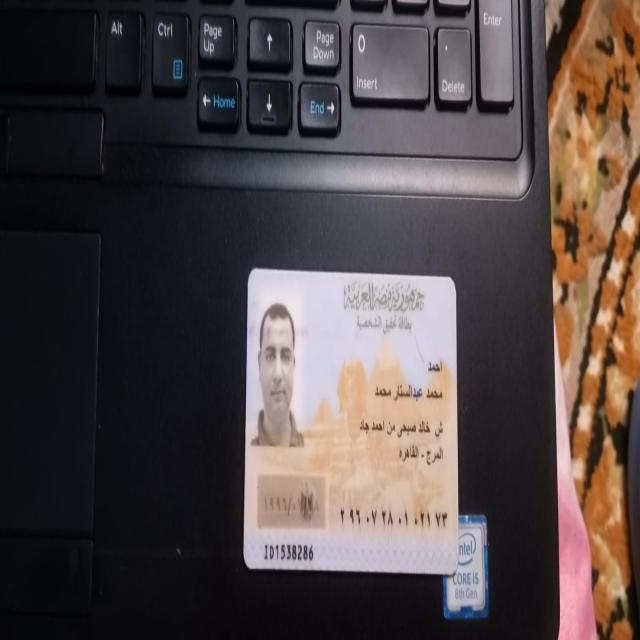ID-cards: (237, 263, 463, 582)
